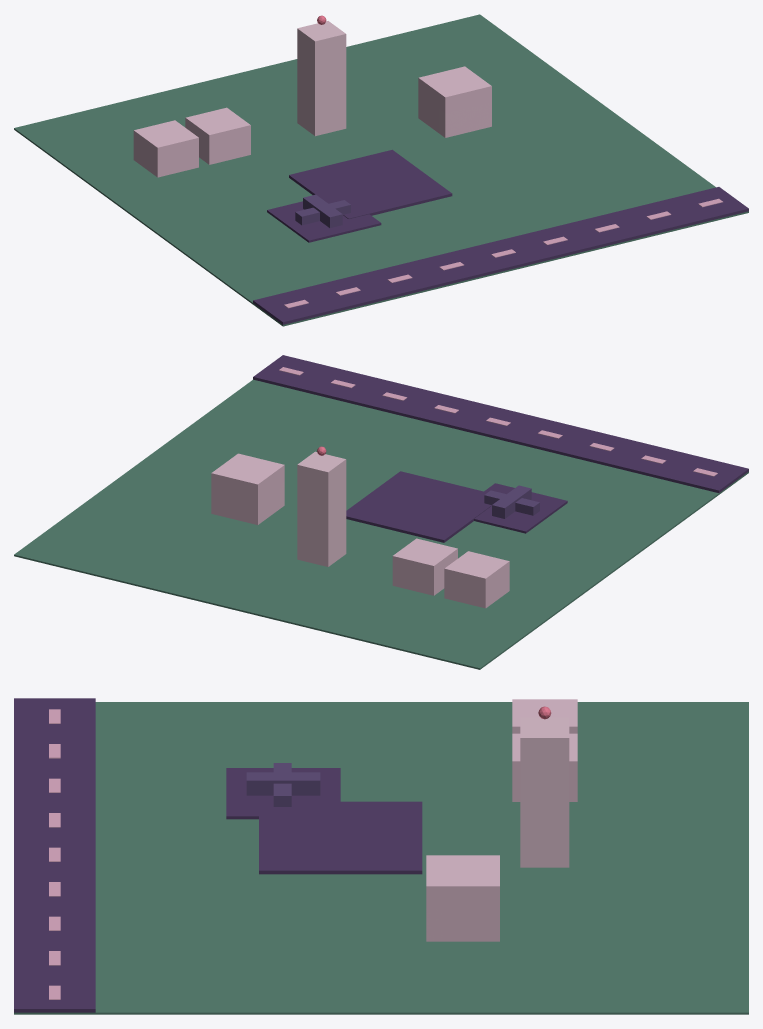
The model's file is stage_06.glb.
The picture shows the model from 3 angles, top to bottom: view 1: azimuth 30°, elevation 25°; view 2: azimuth 150°, elevation 25°; view 3: azimuth 270°, elevation 25°; orthographic projection. The views are drawn at different scales.
Visible parts, largest first — view 1: geometry_0; view 2: geometry_0; view 3: geometry_0.
Part boxes in pixels (x1,y1,x2,y2): geometry_0: (14, 14, 748, 326); geometry_0: (14, 355, 748, 669); geometry_0: (14, 698, 748, 1014).
Size of the model in its own units: 9 by 2.06 by 9.
